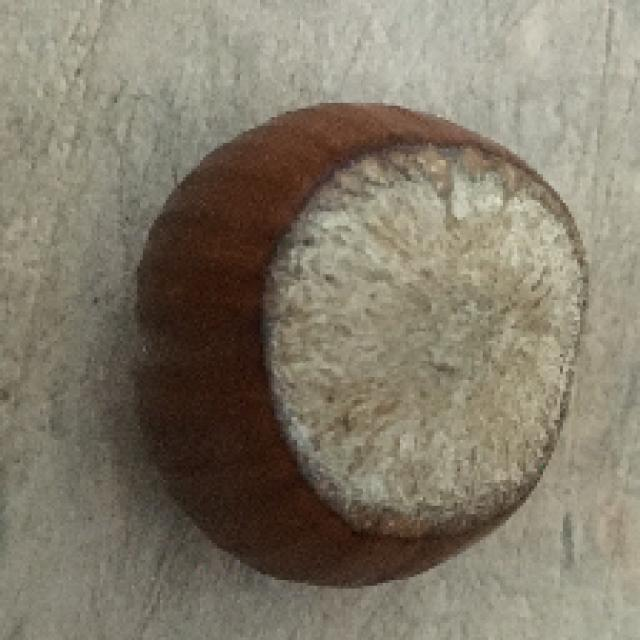qualityHazelnut: (128, 90, 582, 589)
